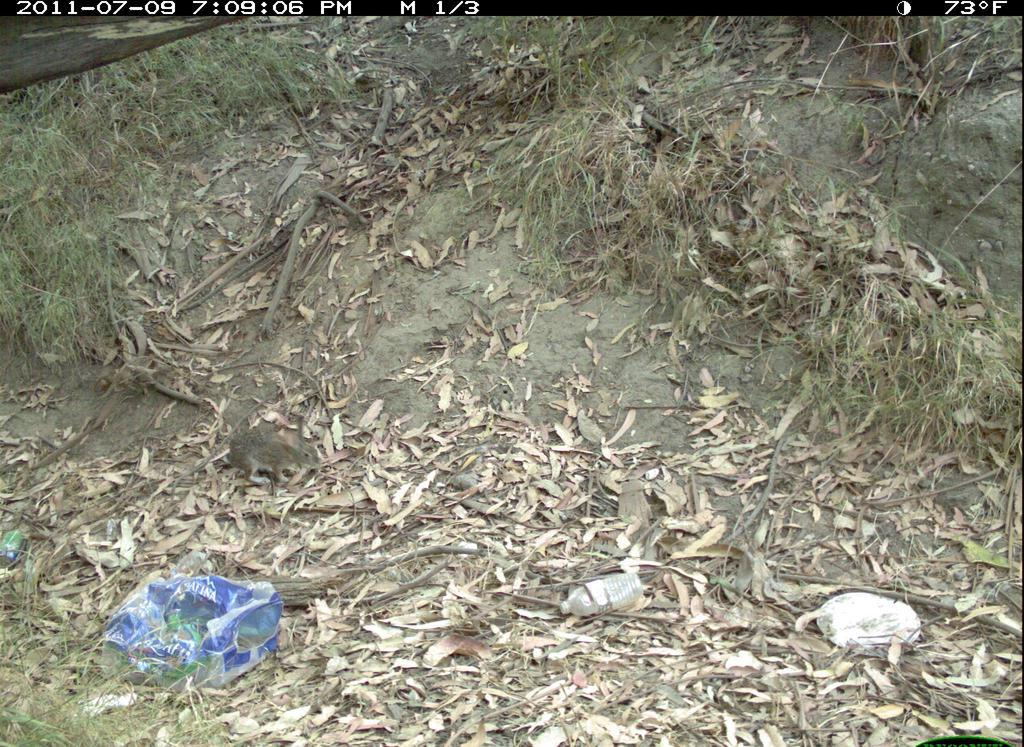rabbit: (223, 406, 332, 489)
